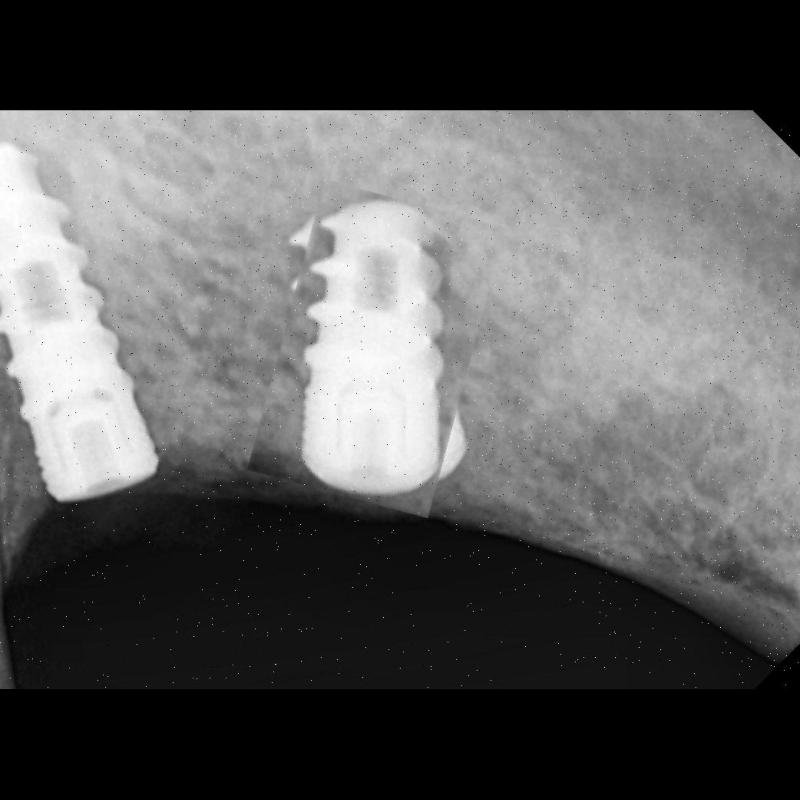NORIS: (266, 190, 488, 508)
